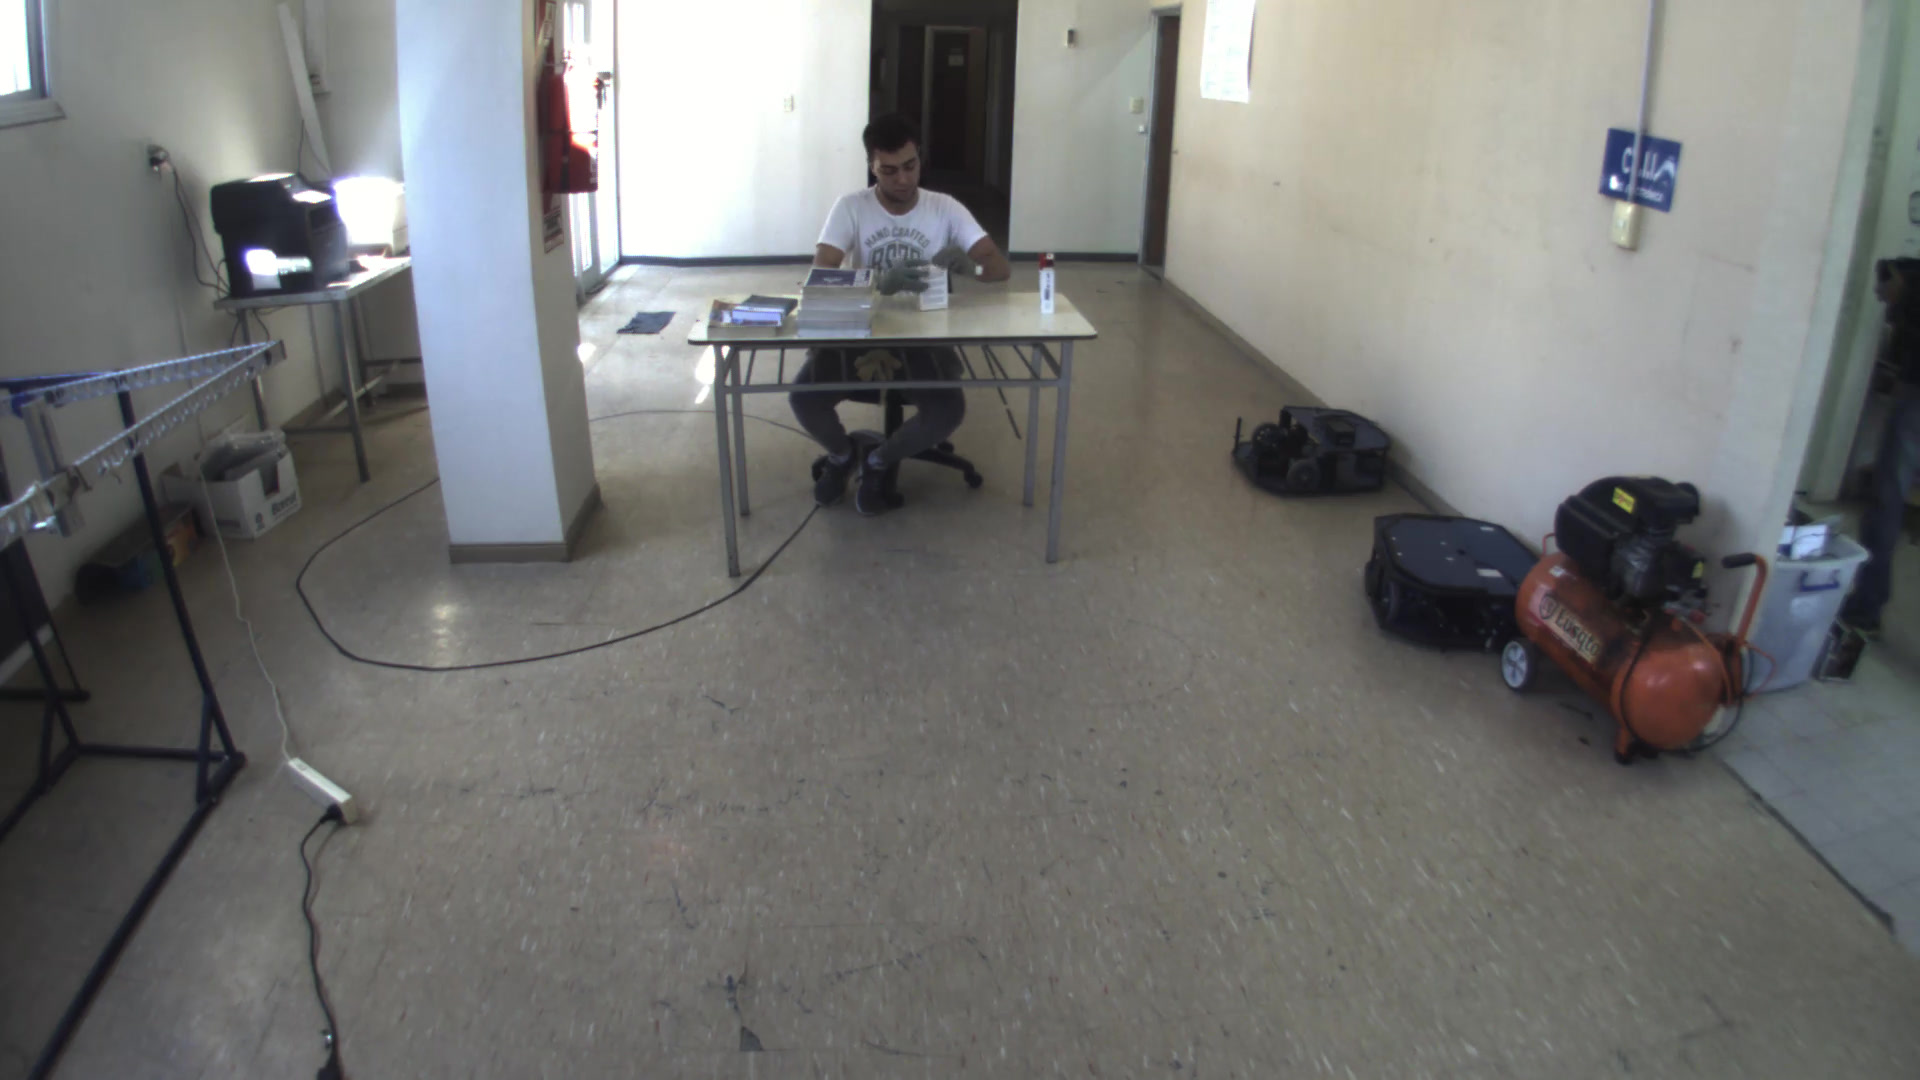hand: (874, 251, 931, 298), (926, 241, 980, 276)
